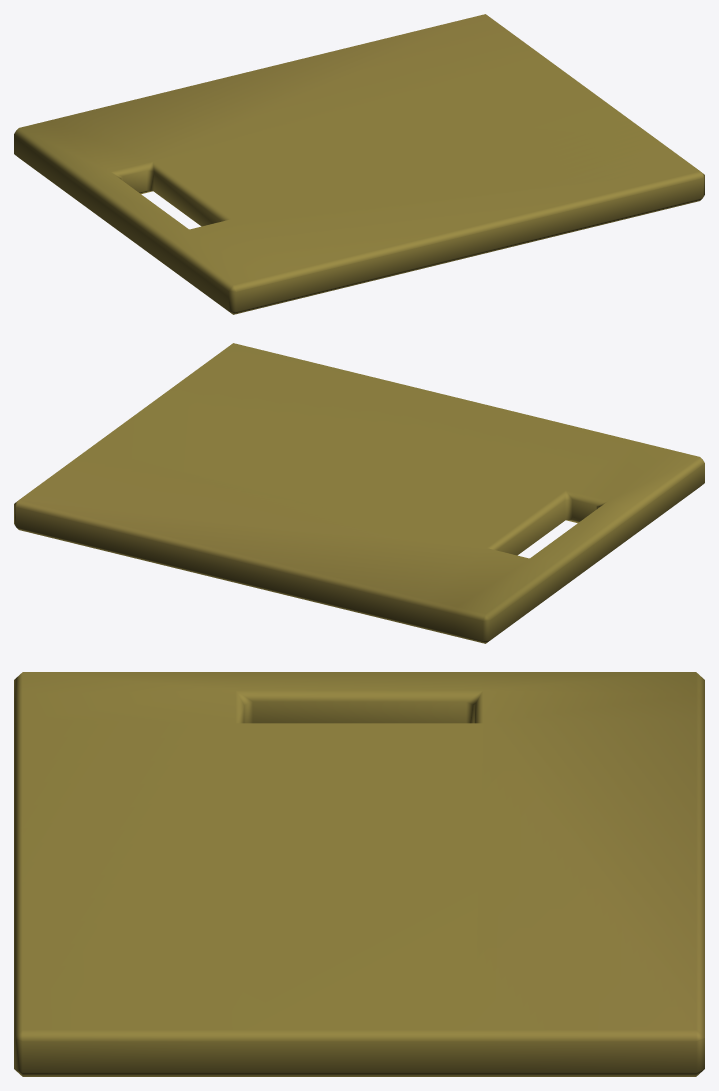
The model's file is cutting_board.glb.
3 views of the same model, one above another, from view 1: azimuth 30°, elevation 25°; view 2: azimuth 150°, elevation 25°; view 3: azimuth 270°, elevation 25° (orthographic). The views are drawn at different scales.
Visible parts, largest first — view 1: cutting_board; view 2: cutting_board; view 3: cutting_board.
Boxes of the visible parts, x1=… form: cutting_board: x1=14, y1=14, x2=704, y2=314; cutting_board: x1=14, y1=343, x2=704, y2=643; cutting_board: x1=14, y1=672, x2=704, y2=1076.
Bounding box in the file's own units: 0.5 × 0.03 × 0.4.
